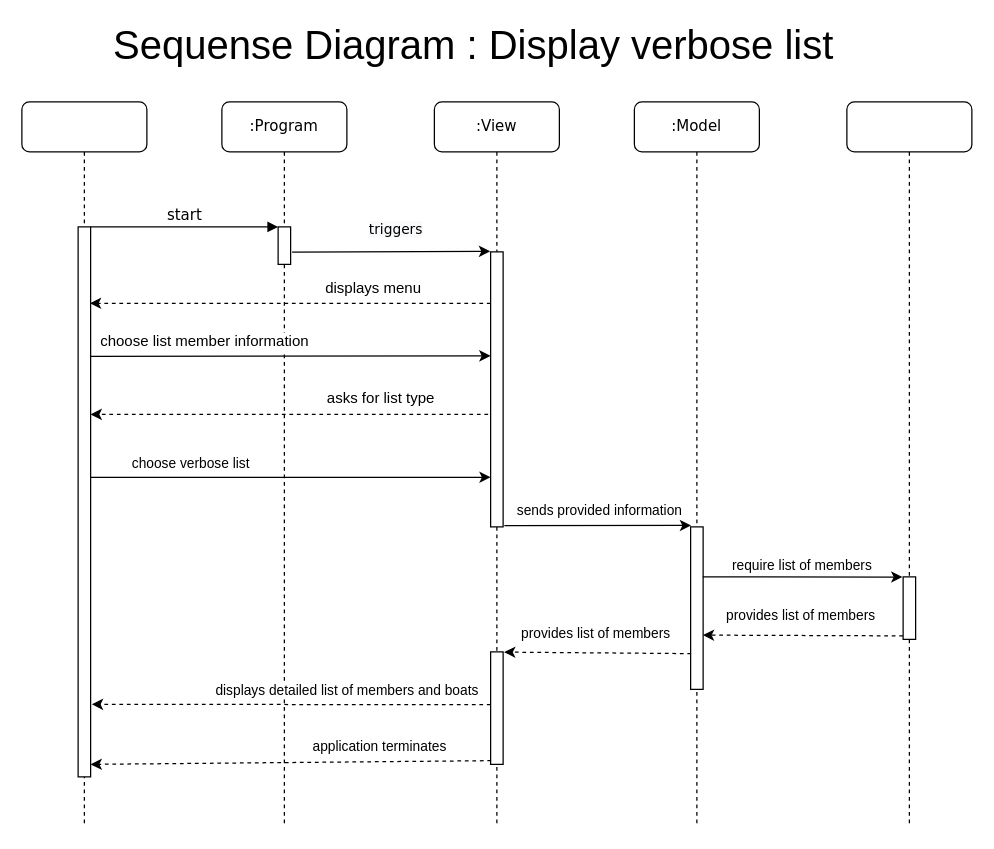
This 994x849 diagram has some shape labels left out. The shapes that lost their labels are listed below. From the top down, each one's box as (x1, y1, x2, y2) in pixels, then its label:
(21, 101, 147, 827): :User
(846, 101, 972, 827): :Database
